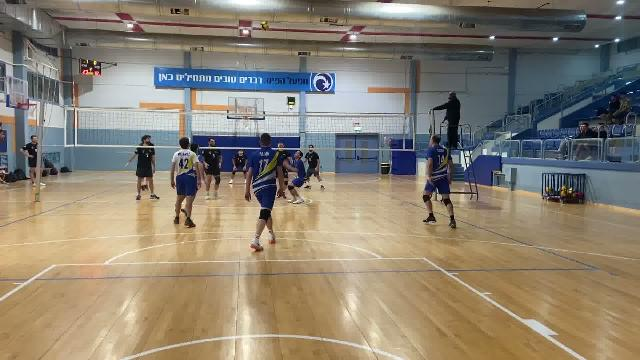ball: (259, 20, 269, 30)
